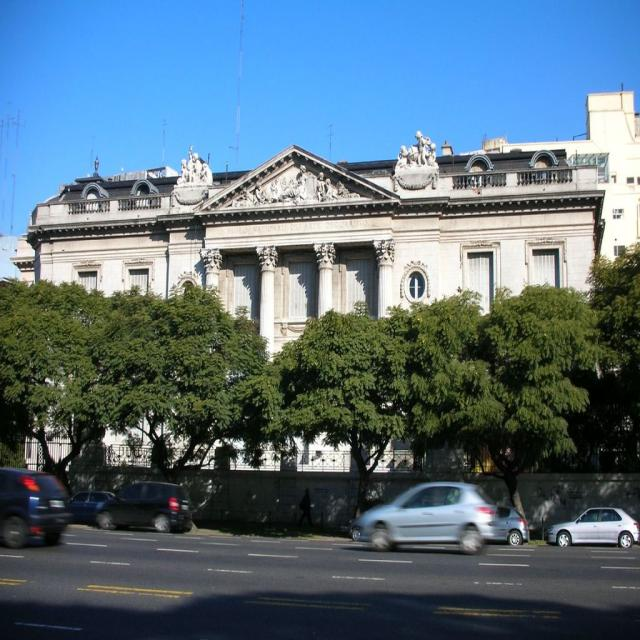car: (353, 479, 496, 553), (90, 474, 195, 529), (545, 500, 639, 549), (69, 485, 120, 529)
